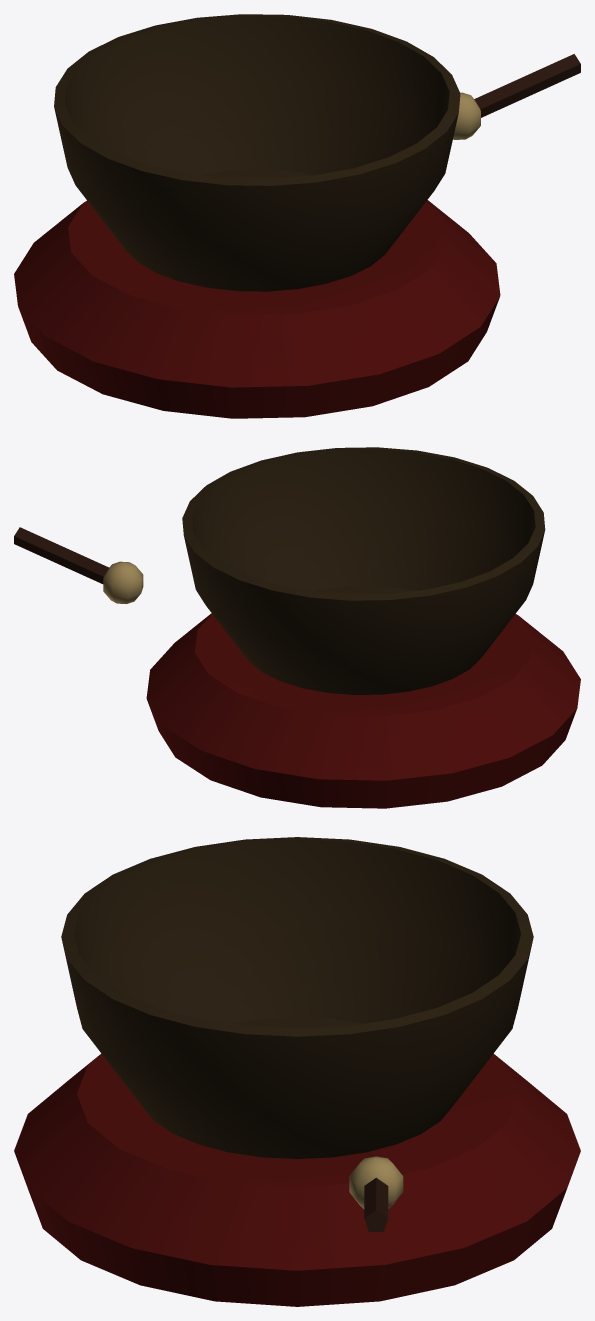
File: hz-chime-qing.glb
3 views of the same model, one above another, from view 1: azimuth 30°, elevation 25°; view 2: azimuth 150°, elevation 25°; view 3: azimuth 270°, elevation 25° (orthographic). The views are drawn at different scales.
Parts seen in each view (by area): view 1: bowl__metal, cushion__fabric, striker__wood; view 2: bowl__metal, cushion__fabric, striker__wood; view 3: bowl__metal, cushion__fabric, striker__wood.
Boxes of the visible parts, <box> form: bowl__metal: <box>54,14,460,291</box>; cushion__fabric: <box>14,200,500,418</box>; striker__wood: <box>453,54,580,139</box>; bowl__metal: <box>182,447,545,694</box>; cushion__fabric: <box>146,613,580,808</box>; striker__wood: <box>14,527,143,603</box>; bowl__metal: <box>61,837,533,1158</box>; cushion__fabric: <box>14,1053,580,1306</box>; striker__wood: <box>349,1156,403,1231</box>.
Bounding box in the file's own units: 0.4813 × 0.182 × 0.36.
